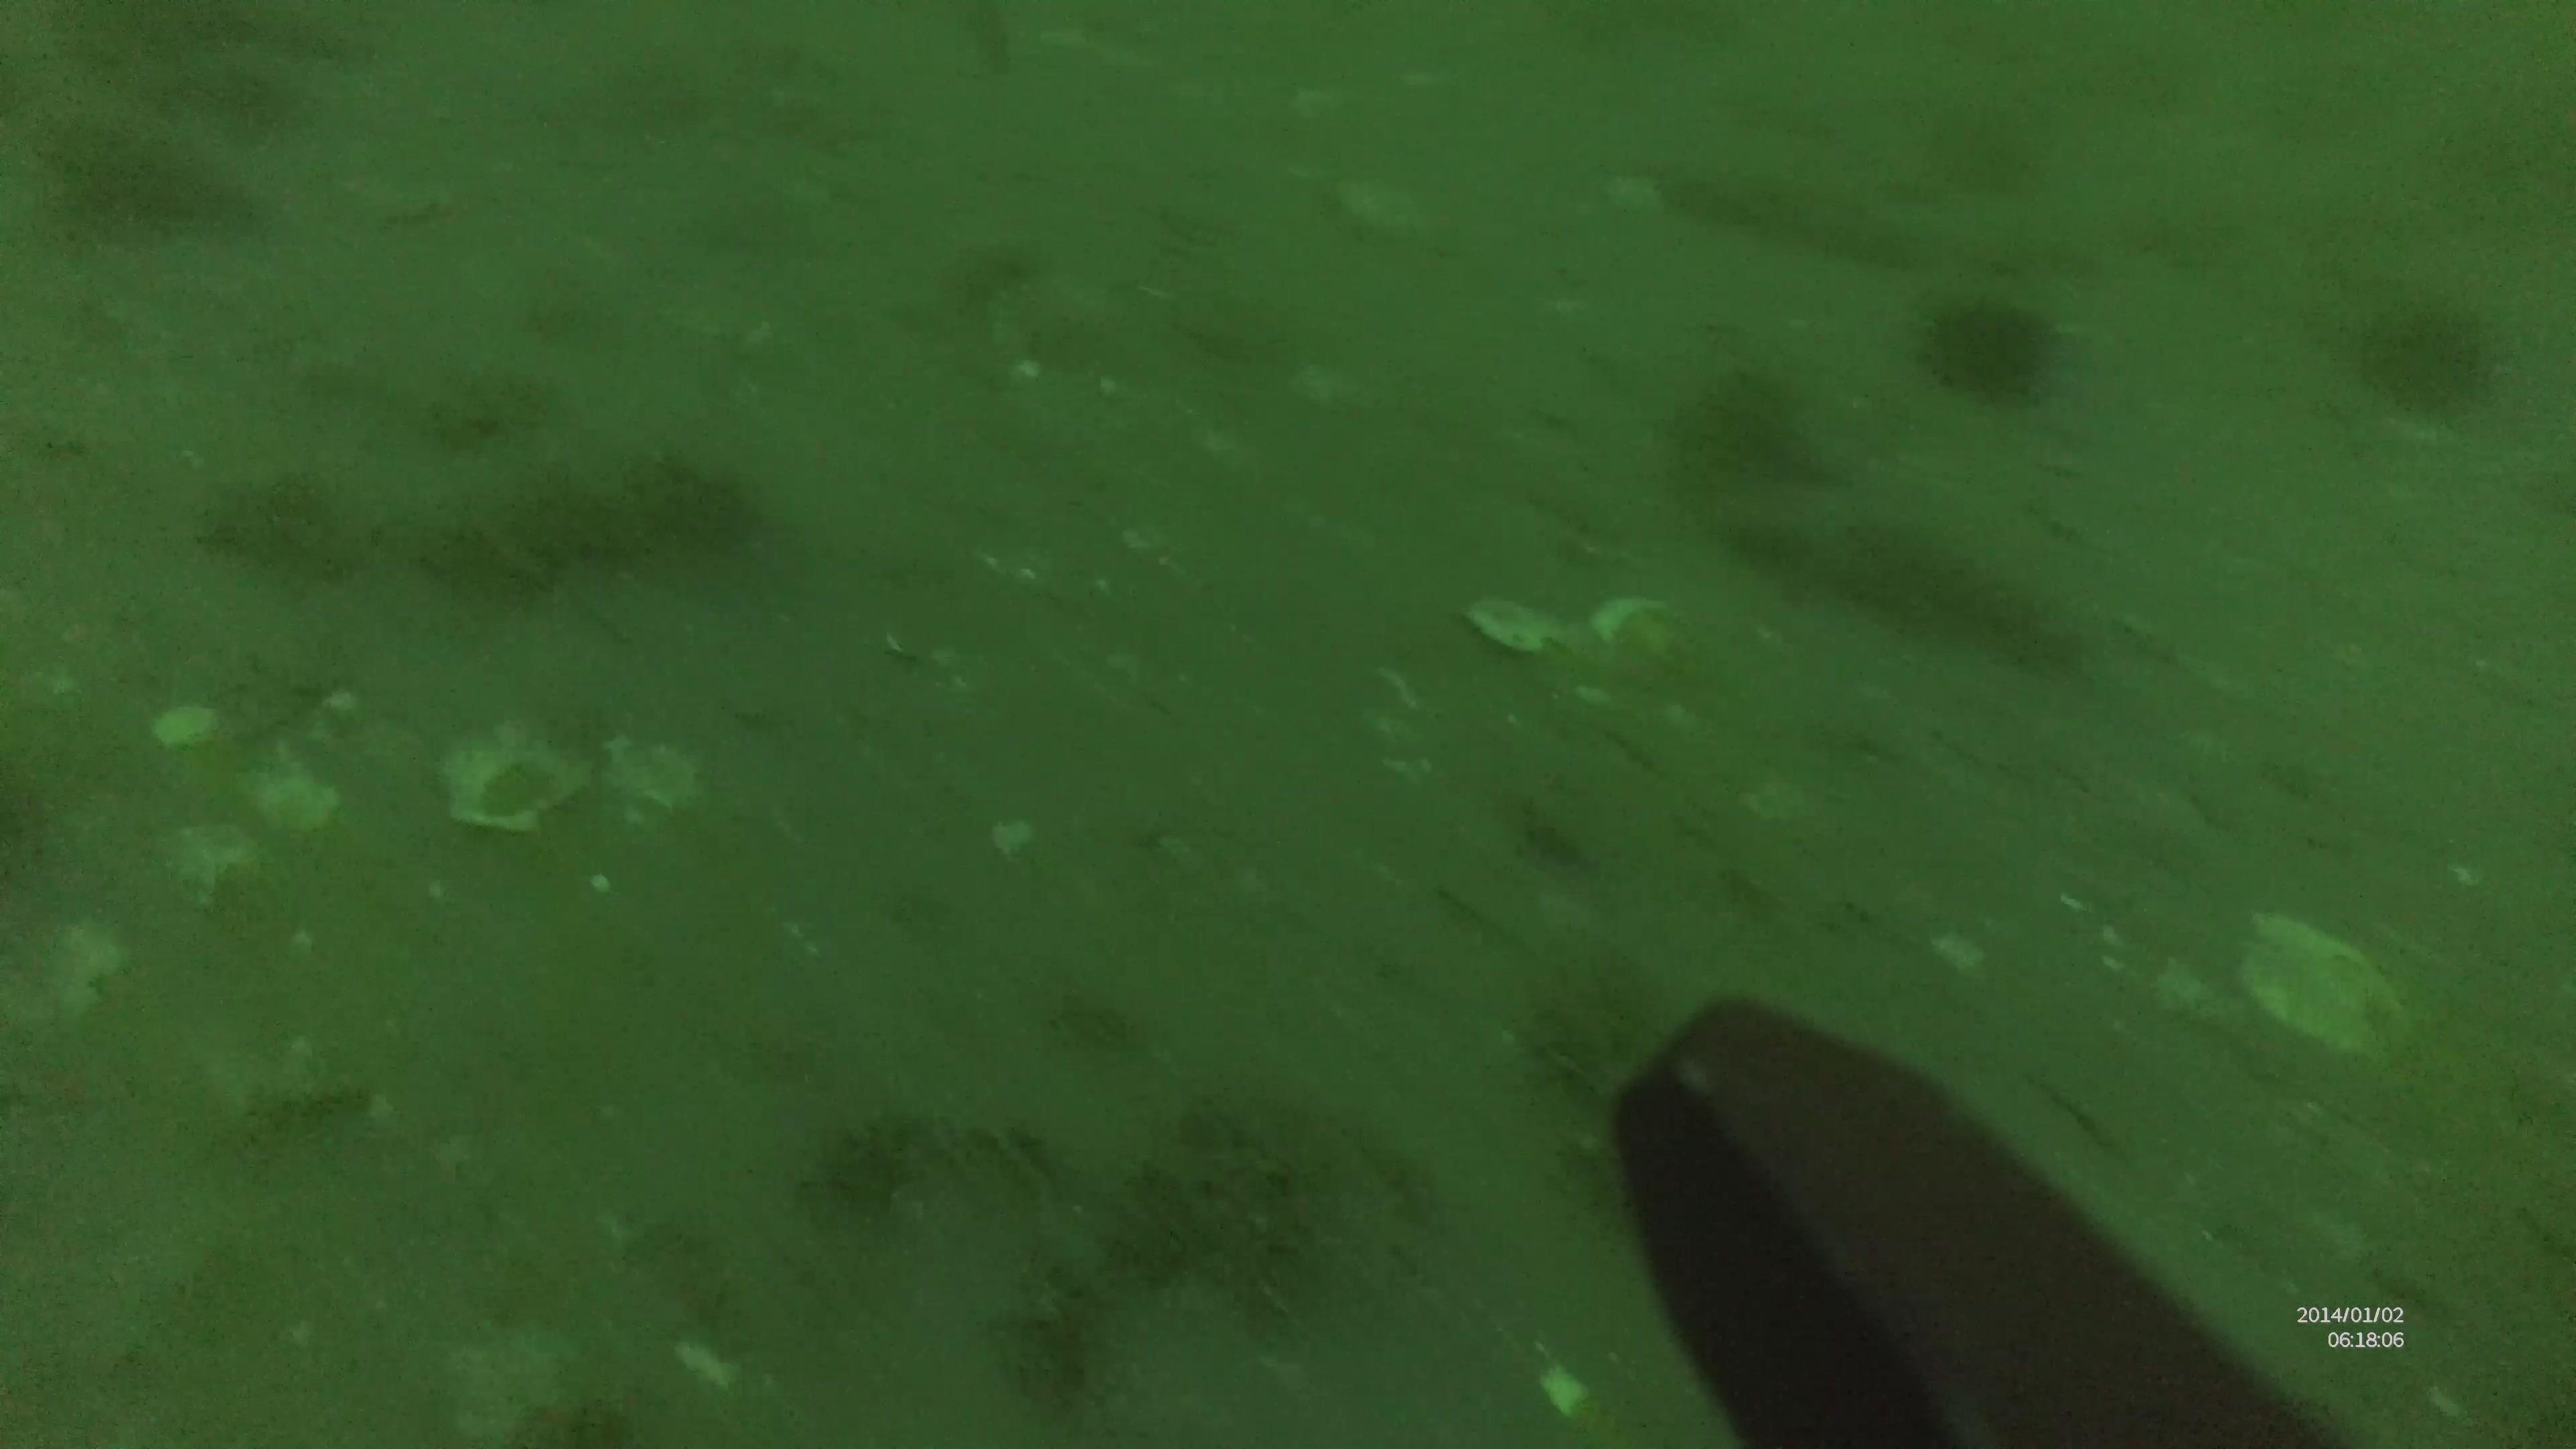echinus: (1927, 288, 2061, 416), (2357, 310, 2491, 425)
